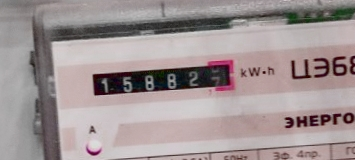1: (99, 76, 110, 94)
2: (187, 69, 199, 86)
5: (120, 75, 133, 92)
7: (210, 74, 221, 87)
8: (143, 73, 155, 90), (166, 72, 177, 88)
screen: (85, 56, 241, 101)
